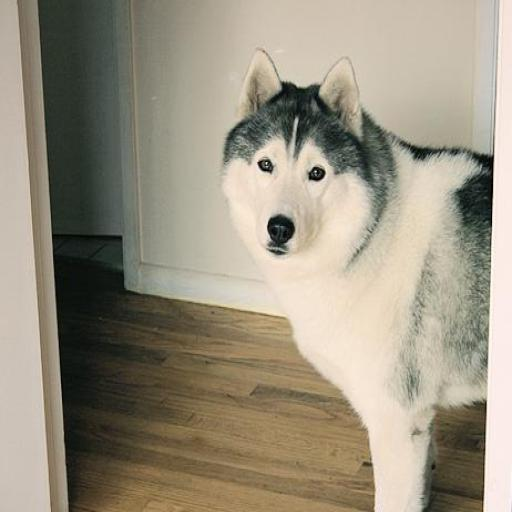dog_face: (226, 49, 366, 257)
